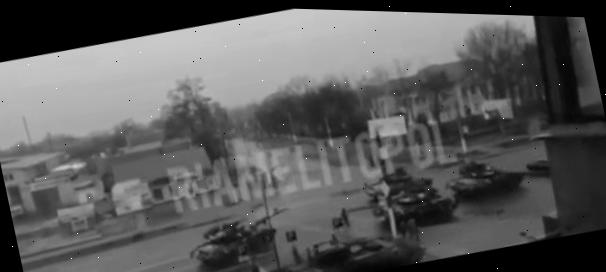tank: (280, 215, 427, 272), (181, 203, 297, 272), (340, 178, 456, 242), (439, 144, 549, 206), (325, 157, 433, 209)
